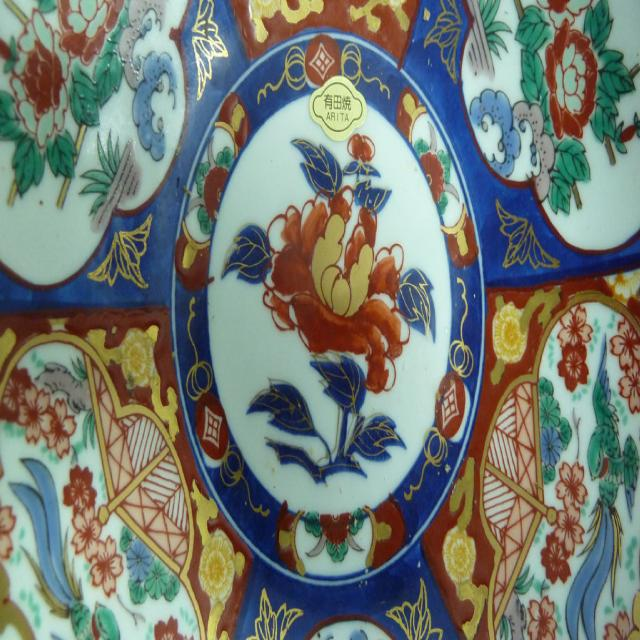non-organic waste: (192, 42, 494, 606)
